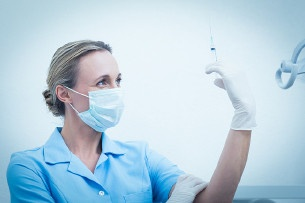Mask: (76, 70, 137, 130)
